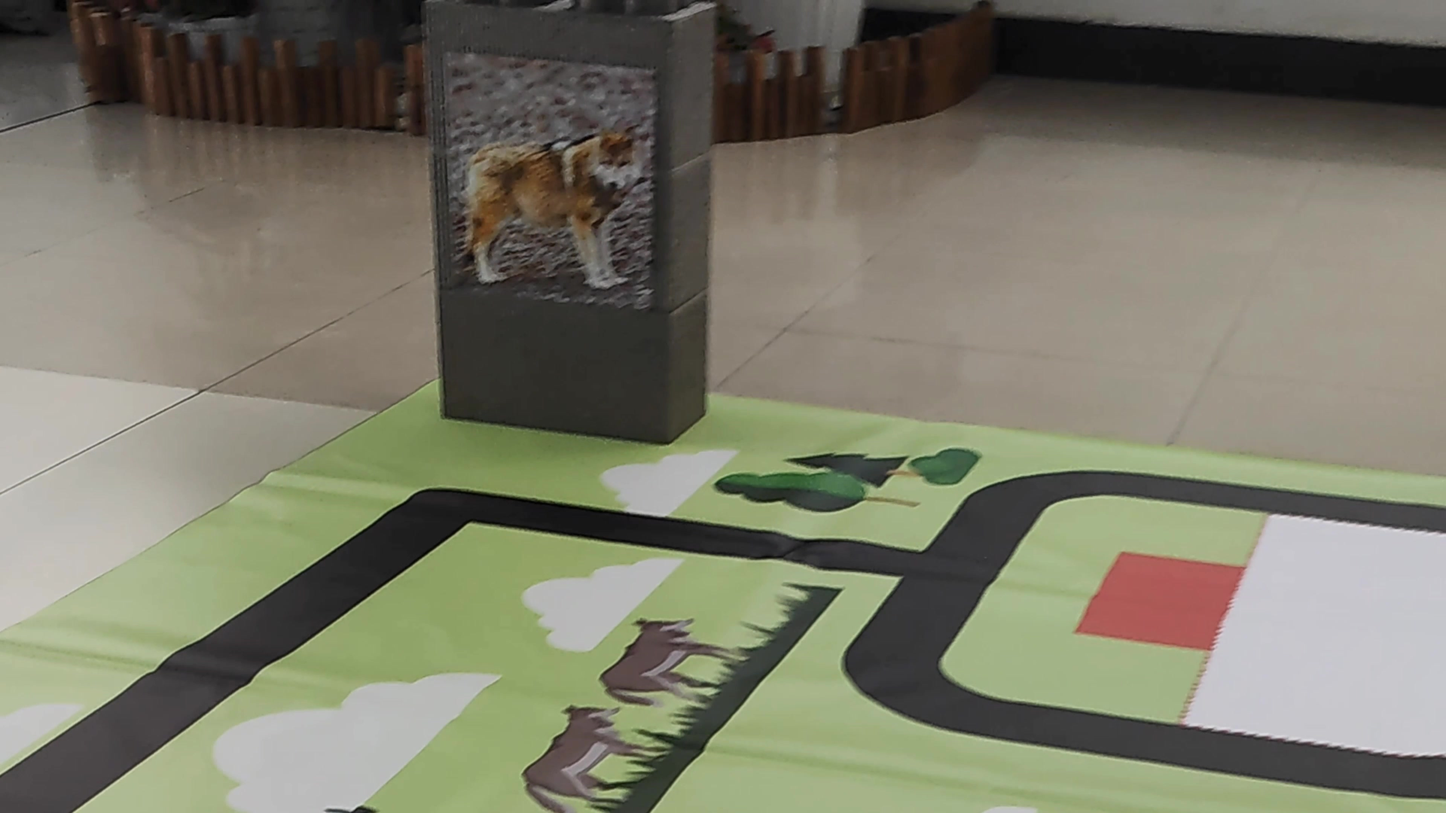wolf: (448, 62, 645, 296)
